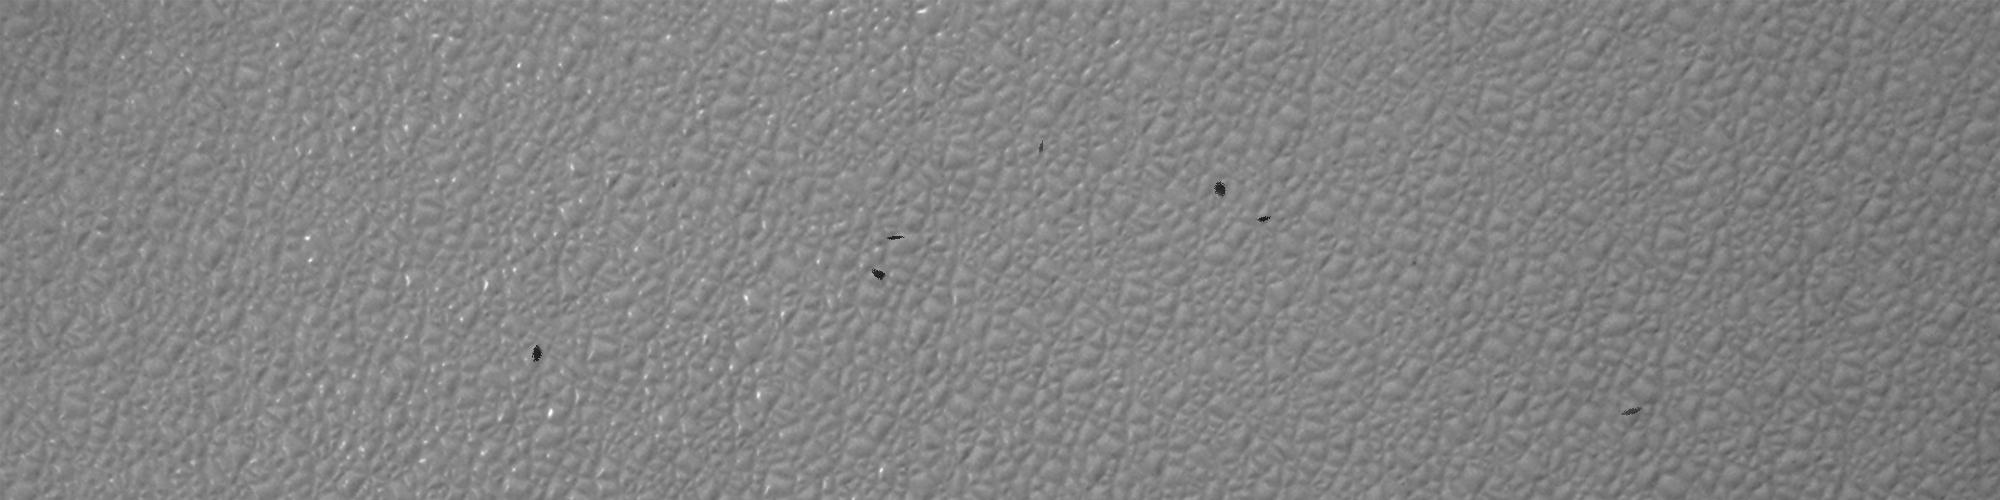Decomposed: (1028, 124, 1055, 163), (523, 342, 546, 369), (1616, 401, 1648, 420), (879, 230, 909, 249), (1255, 209, 1276, 231), (1210, 180, 1230, 202), (869, 265, 885, 287)
